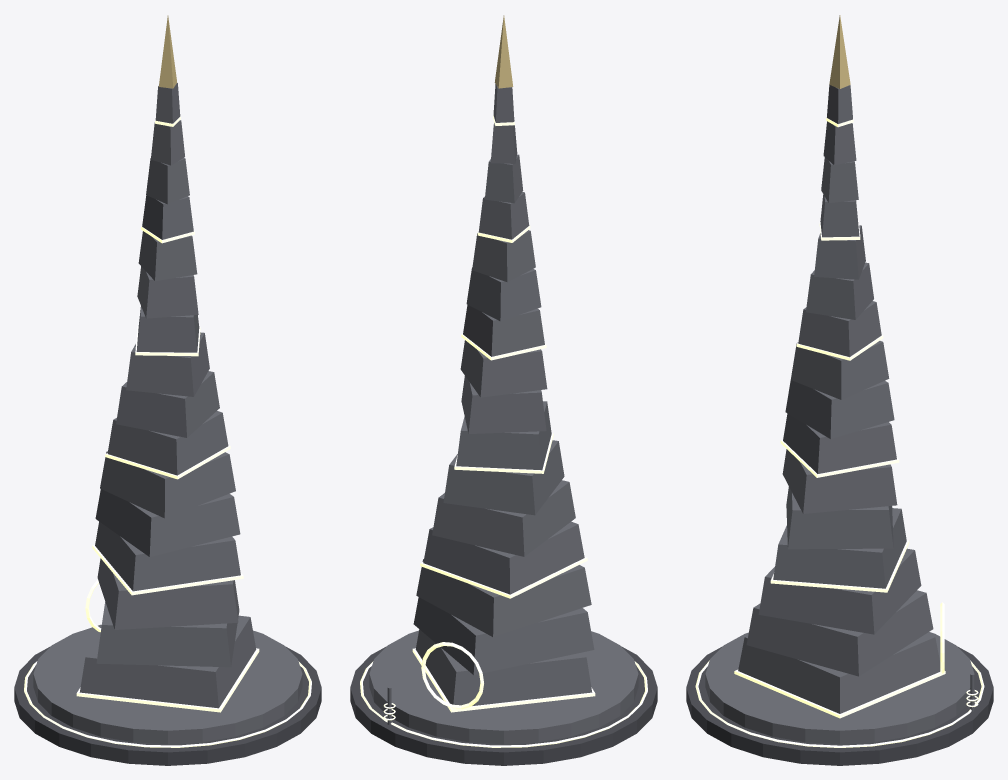
Rendered from zone_high_4_t3.glb.
The picture shows the model from 3 angles, left to right: view 1: azimuth 30°, elevation 25°; view 2: azimuth 150°, elevation 25°; view 3: azimuth 270°, elevation 25°; orthographic projection.
Visible parts, largest first — view 1: zone_high_4_t3; view 2: zone_high_4_t3; view 3: zone_high_4_t3.
Boxes of the visible parts, <box> form: zone_high_4_t3: <box>14,15,321,765</box>; zone_high_4_t3: <box>350,15,657,765</box>; zone_high_4_t3: <box>686,15,993,765</box>.
Size of the model in its own units: 28.8 by 71.01 by 28.8.
